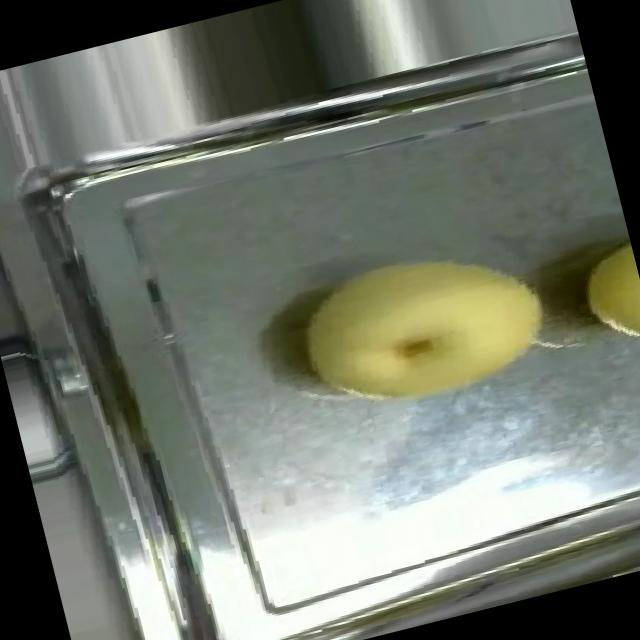Fruit: (280, 222, 559, 436), (564, 227, 640, 371)
